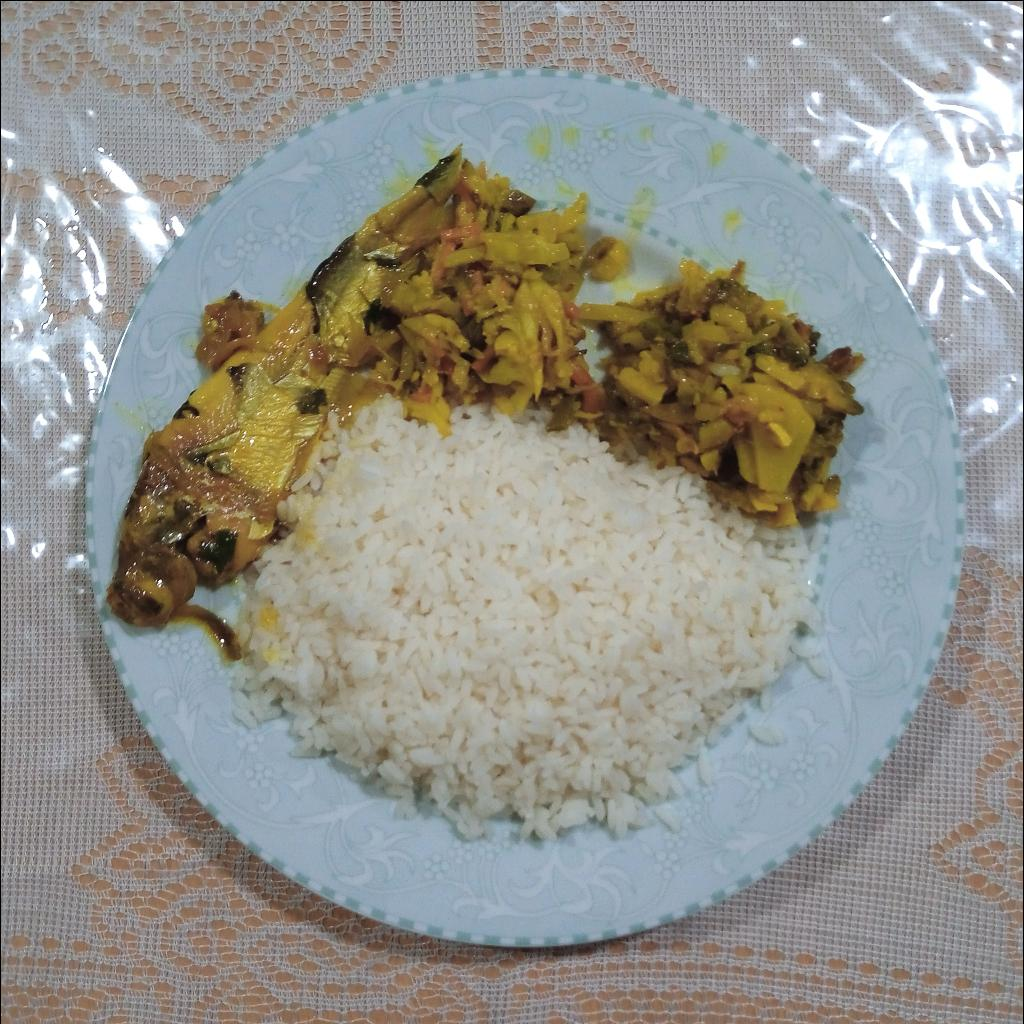fish: (106, 142, 462, 628)
rice: (234, 397, 820, 845)
vegetable: (582, 254, 867, 517), (358, 156, 610, 441)
